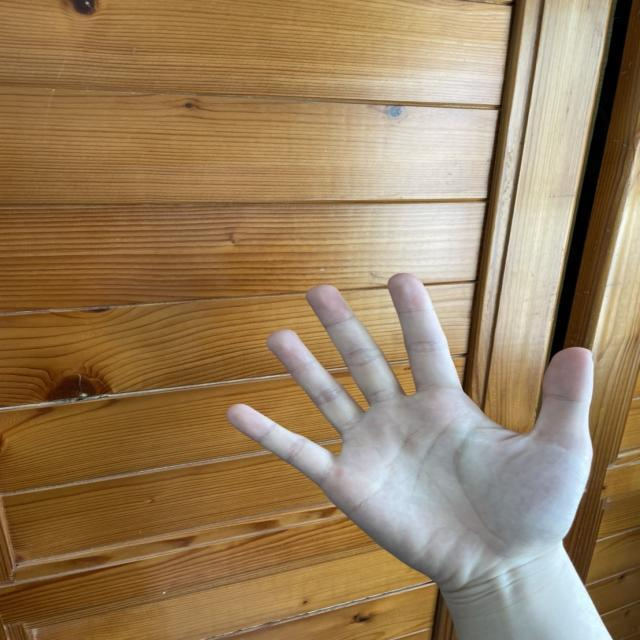hand: (216, 258, 608, 596)
